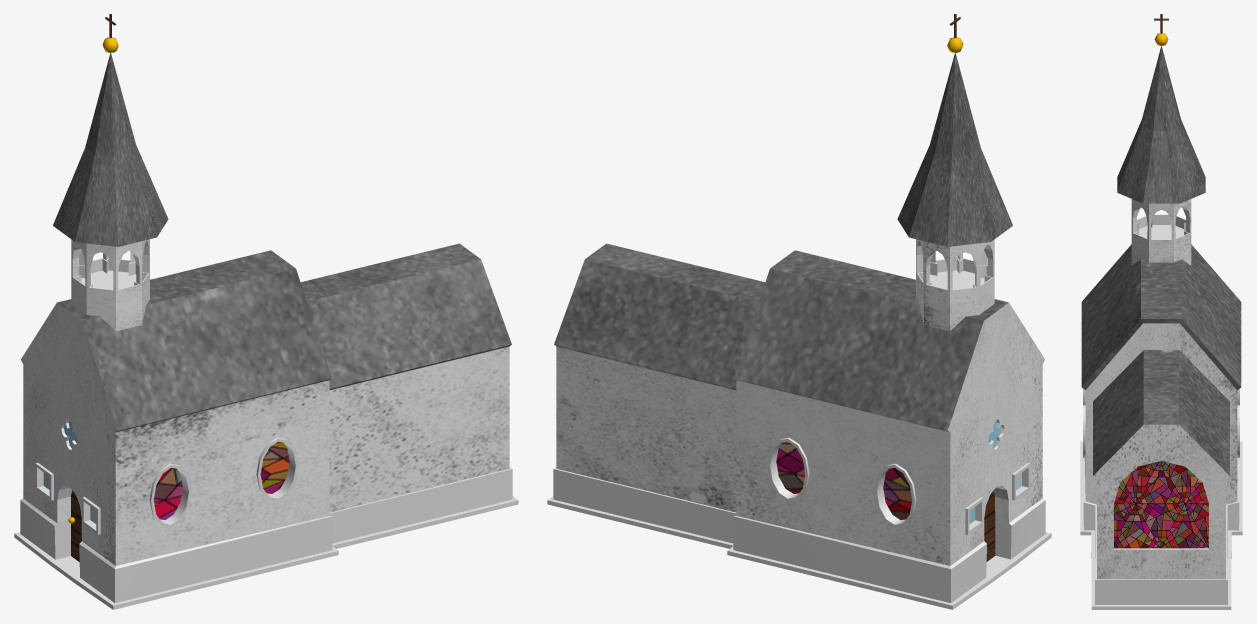
Rendered from low_poly_church.glb.
3 views of the same model, side by side, from view 1: azimuth 30°, elevation 25°; view 2: azimuth 150°, elevation 25°; view 3: azimuth 270°, elevation 25° (orthographic). The views are drawn at different scales.
Visible parts, largest first — view 1: Church; view 2: Church; view 3: Church.
Boxes of the visible parts, bbox=[...] form: Church: bbox=[14, 14, 518, 609]; Church: bbox=[547, 14, 1051, 609]; Church: bbox=[1080, 14, 1242, 609].
Size of the model in its own units: 1550 by 1962 by 643.
7 materials, 7 textured.
